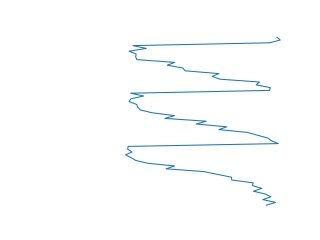distributaryMouthBar: (124, 34, 281, 207)
